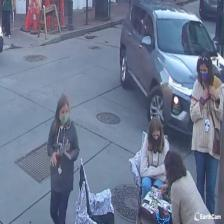person: (189, 53, 223, 224), (46, 95, 80, 224), (164, 152, 212, 224), (140, 116, 168, 222)
